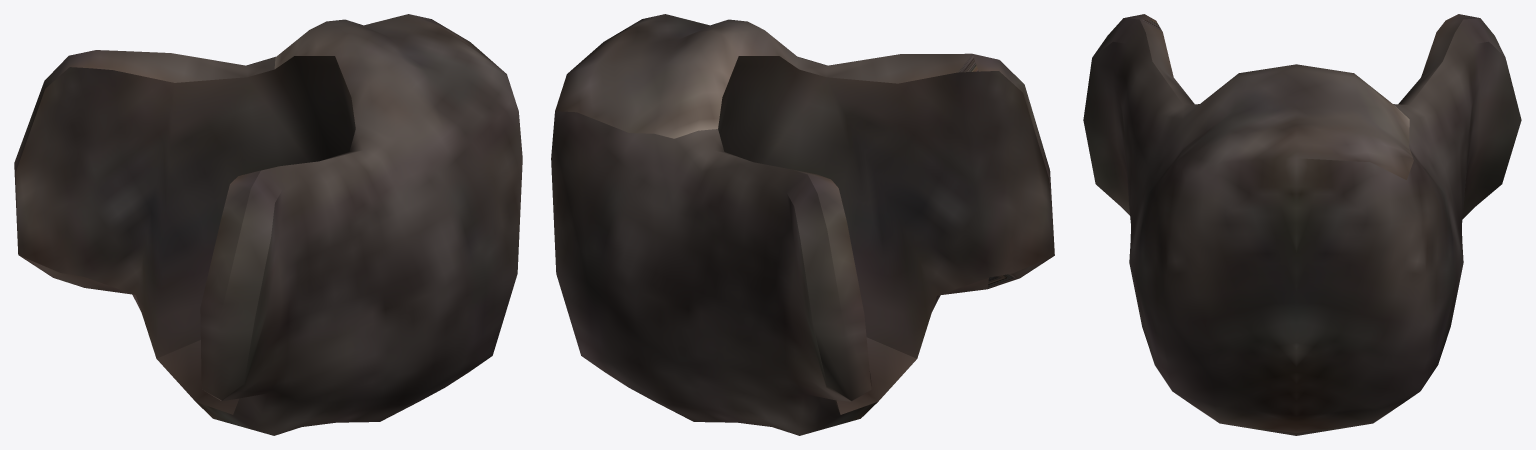
File: helmet_russian_trench_c_hat.glb
3 renders of one model, left to right at view 1: azimuth 30°, elevation 25°; view 2: azimuth 150°, elevation 25°; view 3: azimuth 270°, elevation 25°, orthographic.
Bounding box in the file's own units: 11.44 × 10.79 × 11.83.
1 material, 1 textured.
